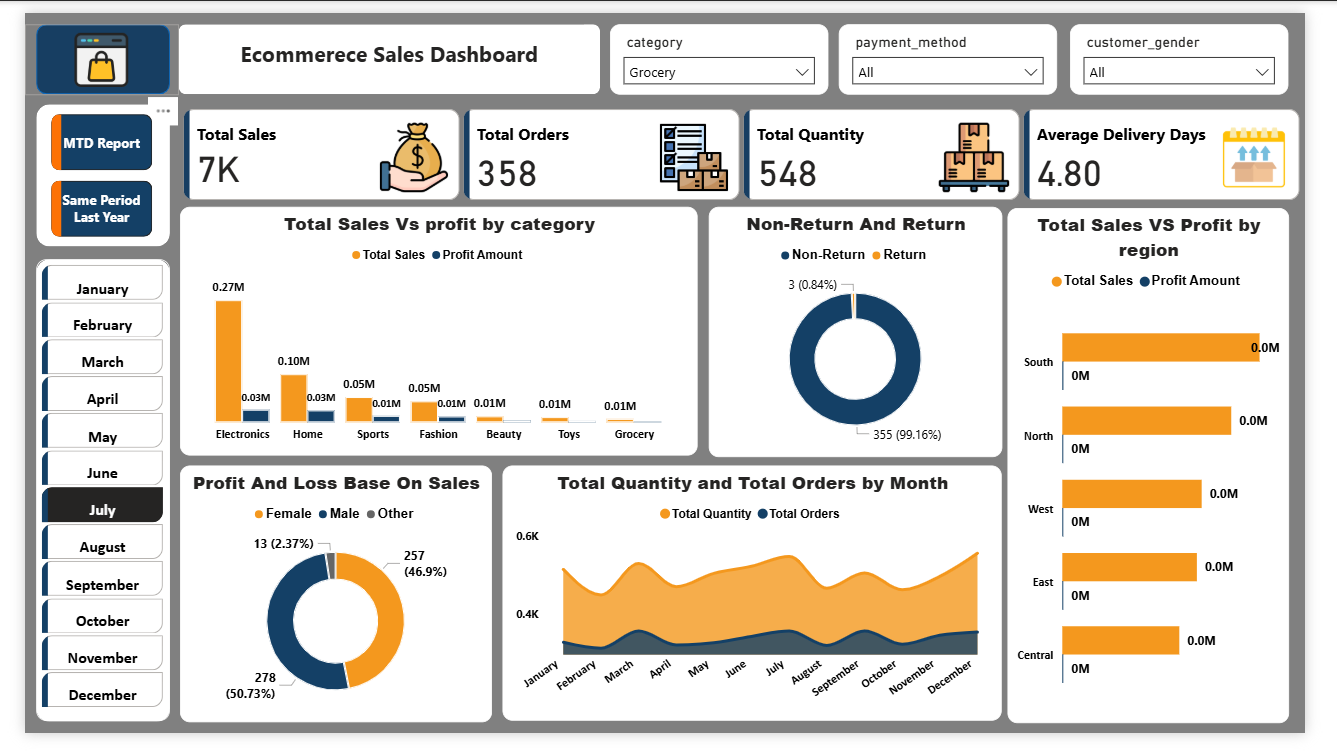

What the dashboard file says about the page in this screenshot:
{"tool":"powerbi","page":{"name":"Dashboard","canvas":[1280,720],"ordinal":0},"visuals":[{"type":"shape","box":[11.2,11.2,133.8,70],"z":0},{"type":"shape","box":[11,90.8,133.7,142.3],"z":1000},{"type":"shape","box":[11,246.6,133.7,462.6],"z":2000},{"type":"cardVisual","fields":{"Data":["KPI.Total Sales","KPI.Total_Orders","KPI.Total_Quantity","KPI.Average Delivery Time"]},"box":[153.8,91.2,1126.2,101.2],"z":3000},{"type":"shape","box":[153.8,11.2,421.2,70],"z":4000},{"type":"textbox","box":[171.2,21.2,386.2,60],"z":5000},{"type":"clusteredColumnChart","title":"Total Sales Vs profit by category","fields":{"Category":["ecommerce_sales_34500.category"],"Y":["KPI.Total Sales","KPI.Profit Amount"]},"box":[155,193.8,517.5,248.8],"z":6000},{"type":"donutChart","title":"Profit And Loss Base On Sales","fields":{"Y":["KPI.Total Quantity"],"Series":["ecommerce_sales_34500.customer_gender"]},"box":[154.4,453,311.6,256.8],"z":7000},{"type":"areaChart","fields":{"Category":["Custom_calender.order_date.Variation.Date Hierarchy.Month"],"Y":["KPI.Total Quantity","KPI.Total Orders"]},"box":[477.6,453,499.2,255.4],"z":8000},{"type":"slicer","fields":{"Values":["ecommerce_sales_34500.category"]},"box":[585,11.2,218.8,70],"z":9000},{"type":"image","box":[0,11,153.4,71.2],"z":10000},{"type":"donutChart","title":"Non-Return And Return","fields":{"Y":["KPI.Non-Return","KPI.Return"]},"box":[683.4,193.9,293.3,250.3],"z":11000},{"type":"slicer","fields":{"Values":["ecommerce_sales_34500.payment_method"]},"box":[813.8,11.2,218.8,70],"z":12000},{"type":"slicer","fields":{"Values":["ecommerce_sales_34500.customer_gender"]},"box":[1045,11.2,218.8,70],"z":13000},{"type":"clusteredBarChart","title":"Total Sales VS Profit  by region","fields":{"Category":["ecommerce_sales_34500.region"],"Y":["KPI.Total Sales","KPI.Profit Amount"]},"box":[982.5,194.8,281.3,515.1],"z":14000},{"type":"advancedSlicerVisual","fields":{"Values":["Custom_calender.order_date.Variation.Date Hierarchy.Month"]},"box":[11.2,246.2,133.8,461.2],"z":15000},{"type":"pageNavigator","box":[26.2,101.2,101.2,122.5],"z":16000}]}

Visuals, with their boxes in screenshot pixels (x1, y1, x2, y2), scaled from the page's 1280x720 canvas onto the 1337x756 screenshot:
shape: [x1=12, y1=12, x2=151, y2=85]
shape: [x1=11, y1=95, x2=151, y2=245]
shape: [x1=11, y1=259, x2=151, y2=745]
cardVisual - KPI.Total Sales x KPI.Total_Orders: [x1=161, y1=96, x2=1336, y2=202]
shape: [x1=161, y1=12, x2=601, y2=85]
textbox: [x1=179, y1=22, x2=582, y2=85]
"Total Sales Vs profit by category" clusteredColumnChart: [x1=162, y1=203, x2=702, y2=465]
"Profit And Loss Base On Sales" donutChart: [x1=161, y1=476, x2=487, y2=745]
areaChart - Custom_calender.order_date.Variation.Date Hierarchy.Month x KPI.Total Quantity: [x1=499, y1=476, x2=1020, y2=744]
slicer - ecommerce_sales_34500.category: [x1=611, y1=12, x2=840, y2=85]
image: [x1=0, y1=12, x2=160, y2=86]
"Non-Return And Return" donutChart: [x1=714, y1=204, x2=1020, y2=466]
slicer - ecommerce_sales_34500.payment_method: [x1=850, y1=12, x2=1079, y2=85]
slicer - ecommerce_sales_34500.customer_gender: [x1=1092, y1=12, x2=1320, y2=85]
"Total Sales VS Profit  by region" clusteredBarChart: [x1=1026, y1=205, x2=1320, y2=745]
advancedSlicerVisual - Custom_calender.order_date.Variation.Date Hierarchy.Month: [x1=12, y1=259, x2=151, y2=743]
pageNavigator: [x1=27, y1=106, x2=133, y2=235]
